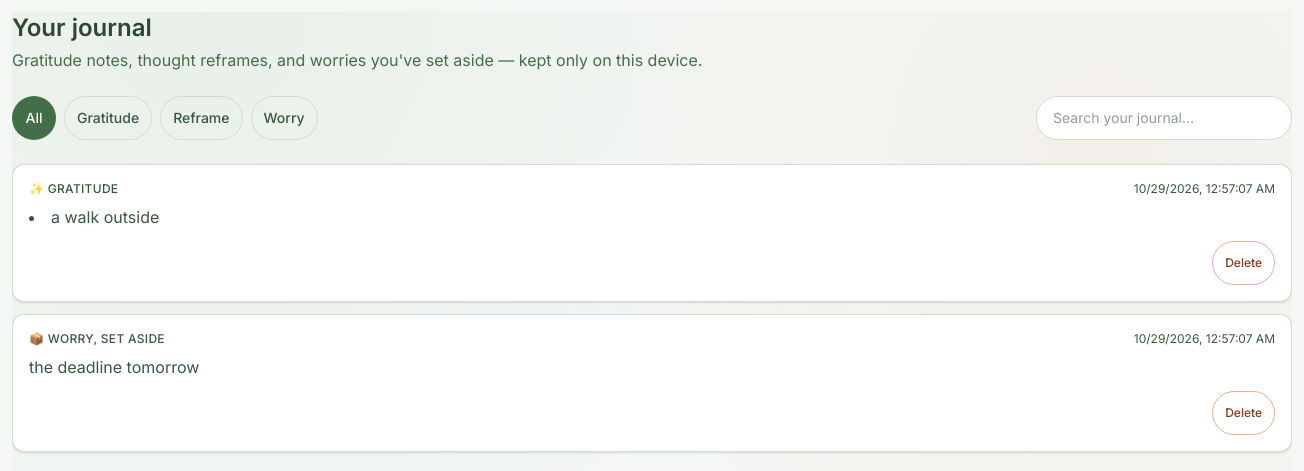
Journal page › filters entries by type
Click the button "worry": click(284, 118) [250, 96, 318, 140]
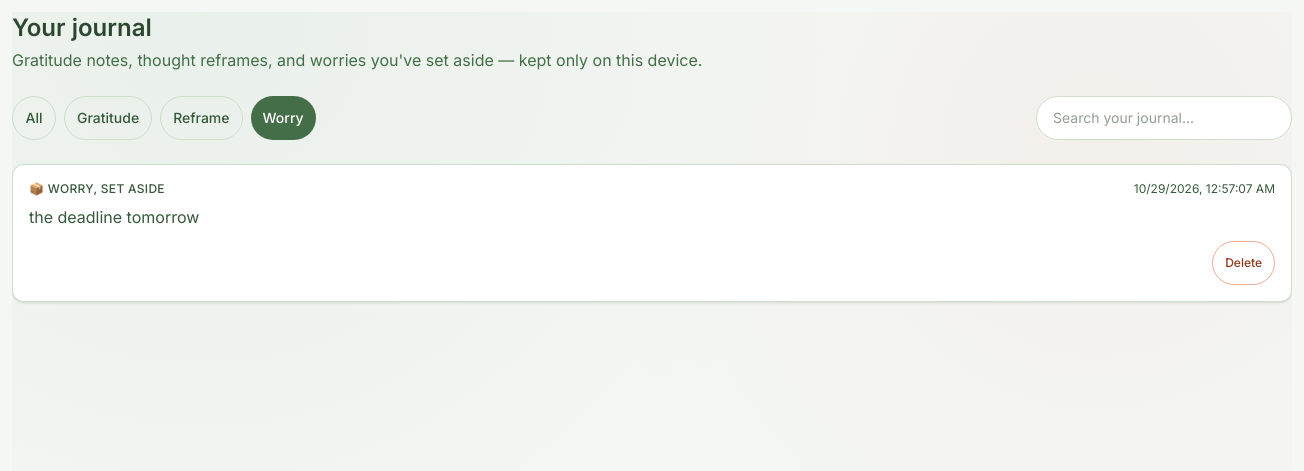
Check: the text "the deadline tomorrow" is shown, box [29, 207, 199, 227]
Check: the list item "a walk outside" is gone
